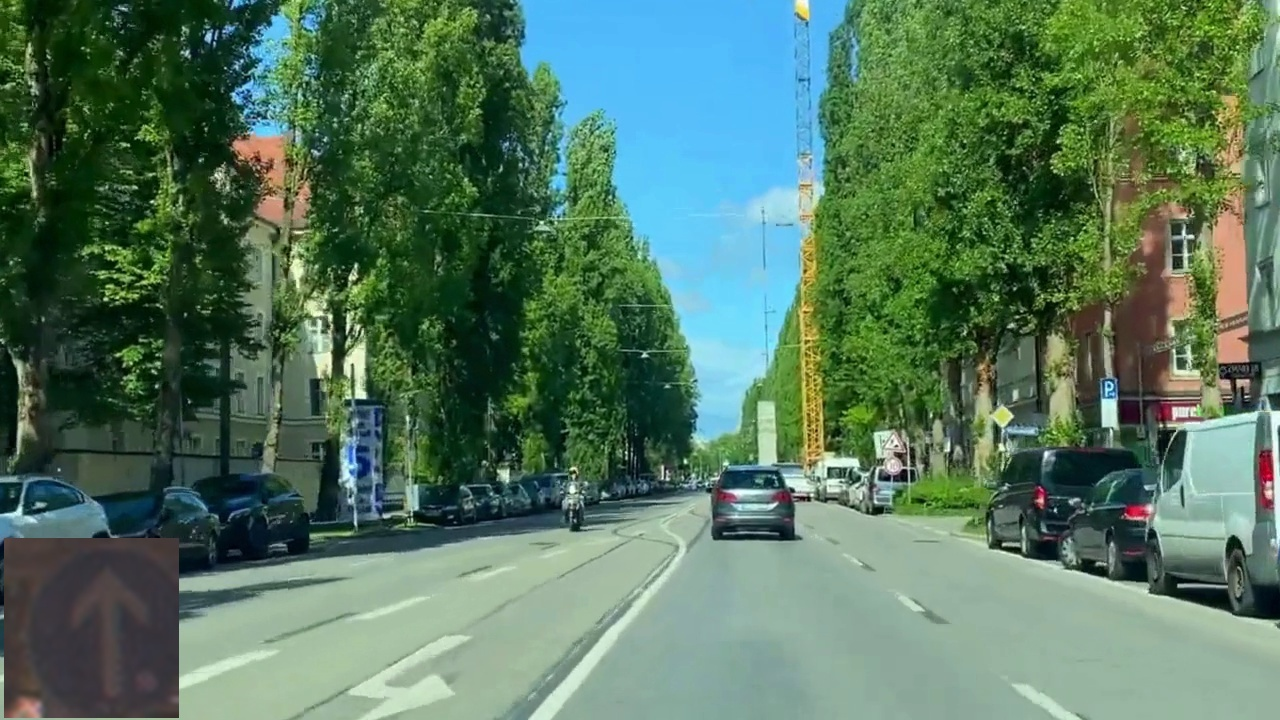Ahead only: (4, 538, 179, 718)
